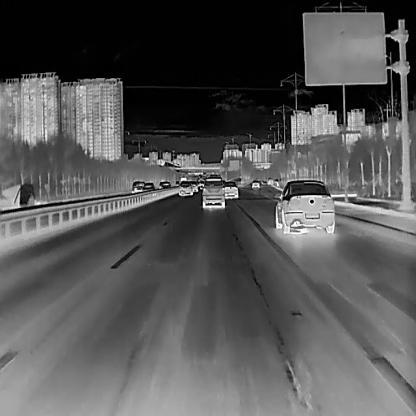car: (274, 179, 334, 232), (201, 177, 224, 206), (177, 179, 192, 194), (224, 182, 237, 198), (131, 181, 144, 193), (141, 181, 154, 192), (251, 179, 259, 188)
